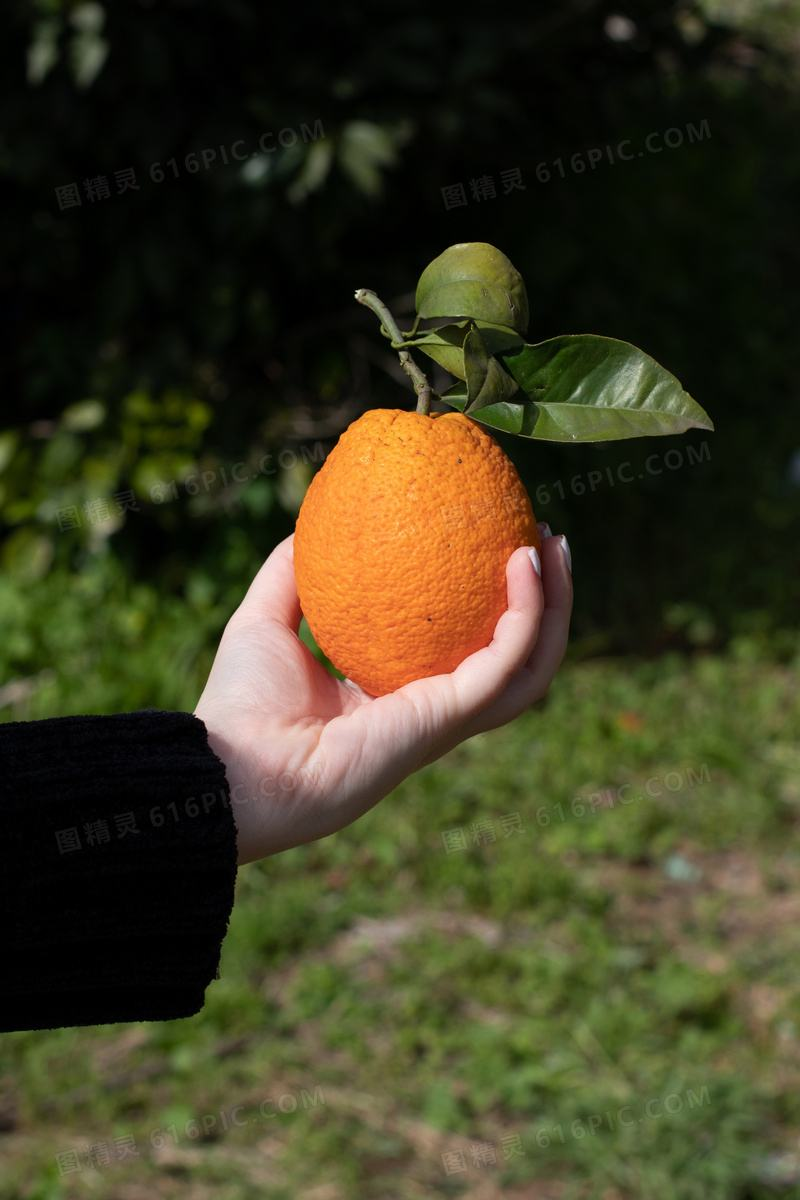no-phone: (195, 412, 582, 866)
